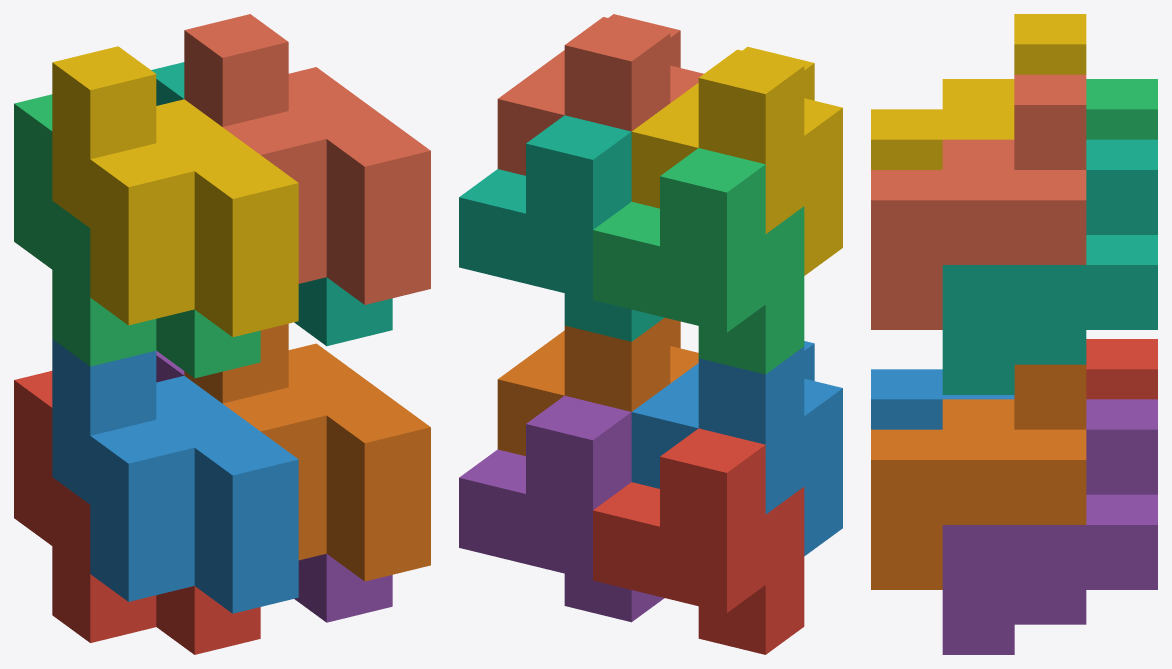
File: tiling.obj
3 renders of one model, left to right at view 1: azimuth 30°, elevation 25°; view 2: azimuth 150°, elevation 25°; view 3: azimuth 270°, elevation 25°, orthographic. The views are drawn at different scales.
Visible parts, largest first — view 1: copy_1_domain_4, copy_1_domain_2, copy_1_domain_8, copy_1_domain_6, copy_1_domain_3, copy_1_domain_1, copy_1_domain_7, copy_1_domain_5; view 2: copy_1_domain_3, copy_1_domain_1, copy_1_domain_4, copy_1_domain_5, copy_1_domain_7, copy_1_domain_2, copy_1_domain_8, copy_1_domain_6; view 3: copy_1_domain_8, copy_1_domain_6, copy_1_domain_5, copy_1_domain_7, copy_1_domain_4, copy_1_domain_2, copy_1_domain_1, copy_1_domain_3.
Boxes of the visible parts, left/top/right/bottom form: copy_1_domain_4: left=52, top=46, right=298, bottom=336; copy_1_domain_2: left=52, top=339, right=298, bottom=613; copy_1_domain_8: left=184, top=14, right=430, bottom=304; copy_1_domain_6: left=184, top=323, right=430, bottom=581; copy_1_domain_3: left=14, top=94, right=260, bottom=378; copy_1_domain_1: left=14, top=371, right=260, bottom=654; copy_1_domain_7: left=151, top=62, right=392, bottom=346; copy_1_domain_5: left=156, top=351, right=392, bottom=622; copy_1_domain_3: left=593, top=148, right=804, bottom=374; copy_1_domain_1: left=593, top=428, right=804, bottom=654; copy_1_domain_4: left=631, top=46, right=842, bottom=275; copy_1_domain_5: left=459, top=395, right=664, bottom=622; copy_1_domain_7: left=459, top=115, right=664, bottom=341; copy_1_domain_2: left=631, top=341, right=842, bottom=556; copy_1_domain_8: left=497, top=14, right=703, bottom=175; copy_1_domain_6: left=497, top=317, right=698, bottom=456; copy_1_domain_8: left=871, top=74, right=1086, bottom=329; copy_1_domain_6: left=871, top=364, right=1086, bottom=589; copy_1_domain_5: left=942, top=399, right=1157, bottom=654; copy_1_domain_7: left=942, top=139, right=1157, bottom=394; copy_1_domain_4: left=871, top=14, right=1086, bottom=169; copy_1_domain_2: left=871, top=369, right=1014, bottom=429; copy_1_domain_1: left=1086, top=339, right=1157, bottom=399; copy_1_domain_3: left=1086, top=79, right=1157, bottom=139.
Size of the model in its own units: 4 by 8 by 4.
